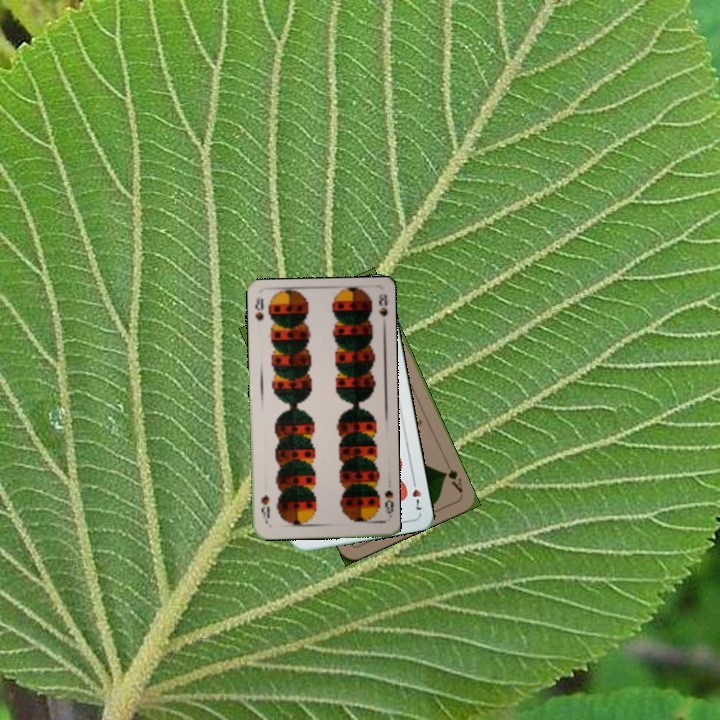GA: (440, 465, 465, 495)
H7: (408, 474, 425, 513)
S8: (380, 486, 395, 520), (251, 294, 266, 323)
